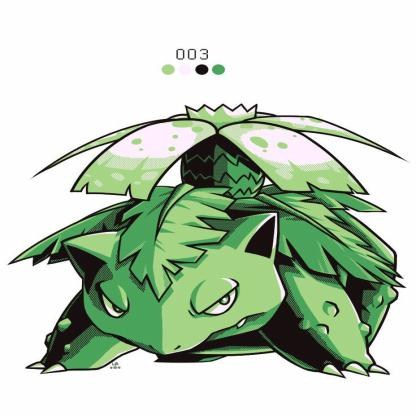Venusaur: (11, 99, 416, 396)
